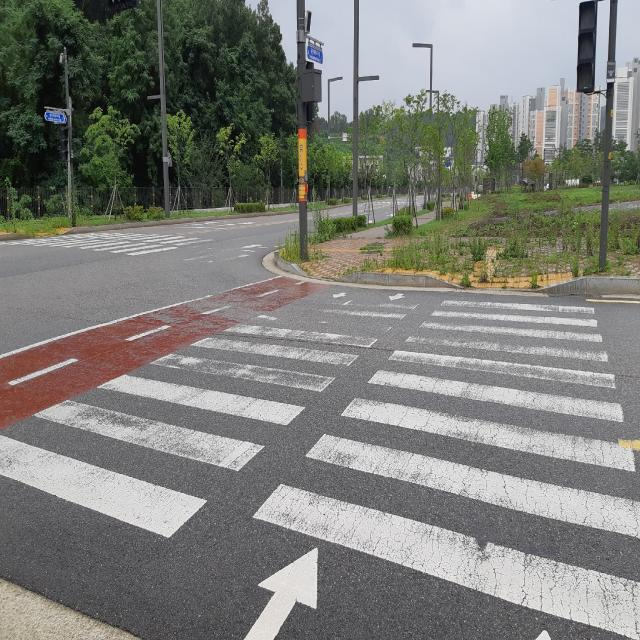횡단보도: (0, 292, 640, 640), (0, 230, 291, 258)
